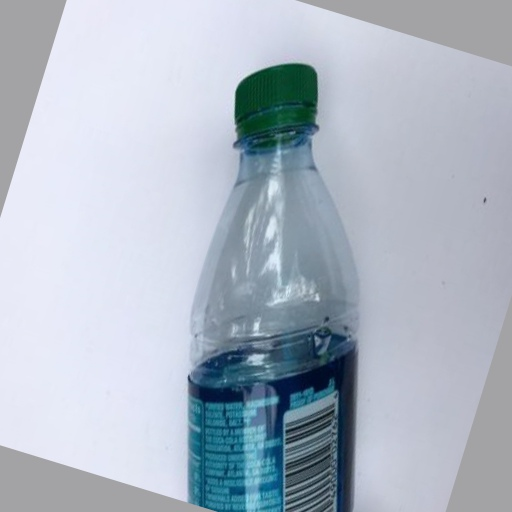Plastic_0: (191, 65, 359, 512)
